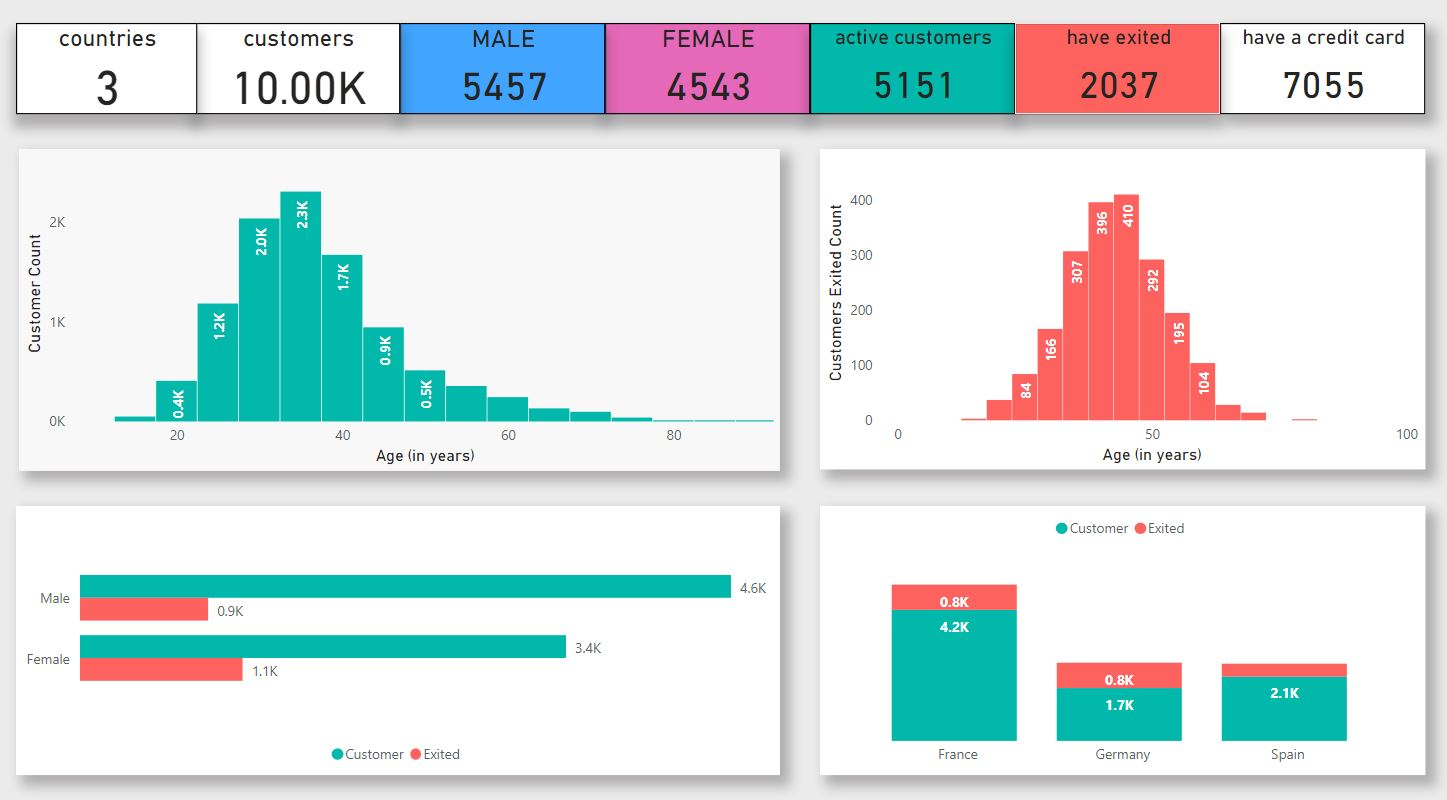

The page's visual inventory and layout, read from the dashboard file:
{"tool":"powerbi","page":{"name":"Summary","canvas":[1280,720],"ordinal":0},"visuals":[{"type":"card","title":"FEMALE","fields":{"Values":["sample_dataset.COUNT_OF_FEMALE"]},"box":[537.6,36.3,179.8,79.7],"z":0},{"type":"card","title":"have a credit card","fields":{"Values":["Sum(sample_dataset.HasCrCard)"]},"box":[1076.9,36.3,179.8,79.7],"z":0},{"type":"columnChart","fields":{"Y":["CountNonNull(sample_dataset.CustomerName)"],"Category":["sample_dataset.Geography"],"Series":["Exited.Customer"]},"box":[726.1,459.5,530.6,235.9],"z":0},{"type":"card","title":"MALE","fields":{"Values":["sample_dataset.COUNT_OF_MALE"]},"box":[357.8,36.3,179.8,79.7],"z":1000},{"type":"card","title":"active customers","fields":{"Values":["Sum(sample_dataset.IsActiveMember)"]},"box":[717.3,36.3,179.8,79.7],"z":1000},{"type":"card","title":"have exited","fields":{"Values":["Sum(sample_dataset.Exited)"]},"box":[897.1,36.3,180,79.7],"z":2000},{"type":"clusteredColumnChart","title":"Age Distribution","fields":{"Category":["sample_dataset.Age (Bins)"],"Y":["CountNonNull(sample_dataset.CustomerName)"]},"box":[23.7,146.5,667.4,281.5],"z":4000},{"type":"clusteredBarChart","fields":{"Category":["sample_dataset.Gender"],"Series":["Exited.Customer"],"Y":["CountNonNull(sample_dataset.Exited)"]},"box":[21,459.5,670,235.9],"z":4000},{"type":"card","title":"customers","fields":{"Values":["Count(sample_dataset.CustomerName)"]},"box":[178,36.3,179.8,79.7],"z":5000},{"type":"clusteredColumnChart","title":"Exited by Age","fields":{"Category":["sample_dataset.Age (Bins)"],"Y":["Sum(sample_dataset.Exited)"]},"box":[726.1,146.5,530.6,280.6],"z":5000},{"type":"card","title":"countries","fields":{"Values":["Count(sample_dataset.Geography)"]},"box":[21.3,36.3,158.5,79.7],"z":6000}]}

Visuals, with their boxes in screenshot pixels (x1, y1, x2, y2), scaled from the page's 1280x720 canvas onto the 1447x800 screenshot:
"FEMALE" card: <region>608, 40, 811, 129</region>
"have a credit card" card: <region>1217, 40, 1421, 129</region>
columnChart - CountNonNull(sample_dataset.CustomerName) x sample_dataset.Geography: <region>821, 511, 1421, 773</region>
"MALE" card: <region>404, 40, 608, 129</region>
"active customers" card: <region>811, 40, 1014, 129</region>
"have exited" card: <region>1014, 40, 1218, 129</region>
"Age Distribution" clusteredColumnChart: <region>27, 163, 781, 476</region>
clusteredBarChart - sample_dataset.Gender x Exited.Customer: <region>24, 511, 781, 773</region>
"customers" card: <region>201, 40, 404, 129</region>
"Exited by Age" clusteredColumnChart: <region>821, 163, 1421, 475</region>
"countries" card: <region>24, 40, 203, 129</region>
